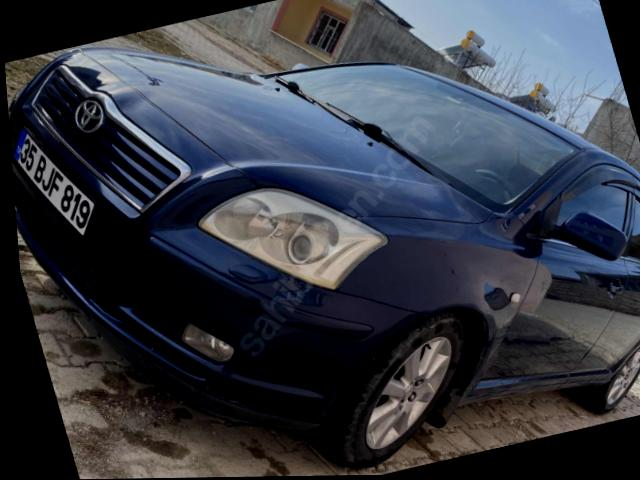plaka: (13, 132, 93, 236)
